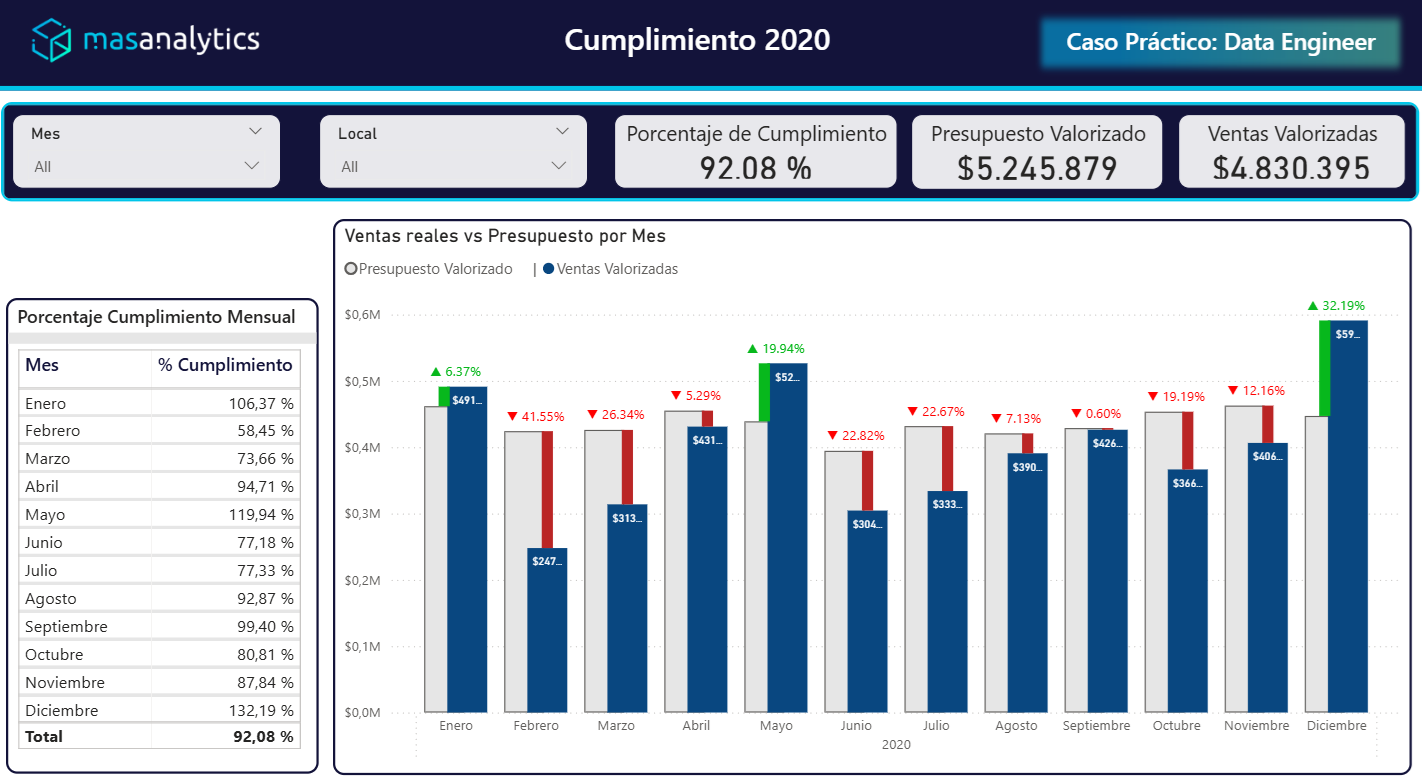

What the dashboard file says about the page in this screenshot:
{"tool":"powerbi","page":{"name":"Cumplimiento","canvas":[1280,720],"ordinal":1},"visuals":[{"type":"shape","box":[5,99,1270,89],"z":0},{"type":"shape","box":[0,0,1280,89.3],"z":1000},{"type":"image","box":[0,11,269,67.3],"z":2000},{"type":"shape","box":[1,77,1279,20],"z":3000},{"type":"textbox","box":[505,18.8,271.2,53.8],"z":6000},{"type":"image","box":[925.9,11.7,342.9,70],"z":7000},{"type":"textbox","box":[954.3,24.8,298.8,42.5],"z":8000},{"type":"clusteredColumnChart","title":"Ventas reales vs Presupuesto por Mes","fields":{"Y":["FACT_Presupuesto.Presupuesto Valorizado","FACT_Presupuesto.Max Value","FACT_Ventas.Ventas Valorizadas"],"Category":["DIM_Periodo.Año","DIM_Periodo.Nombre Mes"]},"box":[302.5,203.8,966.2,497.5],"z":9000},{"type":"slicer","fields":{"Values":["DIM_Locales.NombreLocal"]},"box":[290,110,241.2,67],"z":10000},{"type":"slicer","fields":{"Values":["DIM_Periodo.Nombre Mes"]},"box":[15,110,241.2,67],"z":11000},{"type":"tableEx","title":"Porcentaje Cumplimiento Mensual","fields":{"Values":["DIM_Periodo.Nombre Mes","FACT_Presupuesto.Porcentaje Cumplimiento Presupuesto"]},"box":[10,275,280,426.2],"z":12000},{"type":"card","title":"Porcentaje de Cumplimiento","fields":{"Values":["FACT_Presupuesto.Porcentaje Cumplimiento Presupuesto"]},"box":[554.3,110,253.6,67.1],"z":13000},{"type":"card","title":"Presupuesto Valorizado","fields":{"Values":["FACT_Presupuesto.Presupuesto Valorizado"]},"box":[820.4,109.8,226.2,67.5],"z":14000},{"type":"card","title":"Ventas Valorizadas","fields":{"Values":["FACT_Ventas.Ventas Valorizadas"]},"box":[1059.3,110,203.6,67.1],"z":15000}]}

Visuals, with their boxes in screenshot pixels (x1, y1, x2, y2), scaled from the page's 1280x720 canvas onto the 1422x780 screenshot:
shape: {"x1": 6, "y1": 107, "x2": 1416, "y2": 204}
shape: {"x1": 0, "y1": 0, "x2": 1421, "y2": 97}
image: {"x1": 0, "y1": 12, "x2": 299, "y2": 85}
shape: {"x1": 1, "y1": 83, "x2": 1421, "y2": 105}
textbox: {"x1": 561, "y1": 20, "x2": 862, "y2": 79}
image: {"x1": 1029, "y1": 13, "x2": 1410, "y2": 89}
textbox: {"x1": 1060, "y1": 27, "x2": 1392, "y2": 73}
"Ventas reales vs Presupuesto por Mes" clusteredColumnChart: {"x1": 336, "y1": 221, "x2": 1409, "y2": 760}
slicer - DIM_Locales.NombreLocal: {"x1": 322, "y1": 119, "x2": 590, "y2": 192}
slicer - DIM_Periodo.Nombre Mes: {"x1": 17, "y1": 119, "x2": 285, "y2": 192}
"Porcentaje Cumplimiento Mensual" tableEx: {"x1": 11, "y1": 298, "x2": 322, "y2": 760}
"Porcentaje de Cumplimiento" card: {"x1": 616, "y1": 119, "x2": 898, "y2": 192}
"Presupuesto Valorizado" card: {"x1": 911, "y1": 119, "x2": 1163, "y2": 192}
"Ventas Valorizadas" card: {"x1": 1177, "y1": 119, "x2": 1403, "y2": 192}
